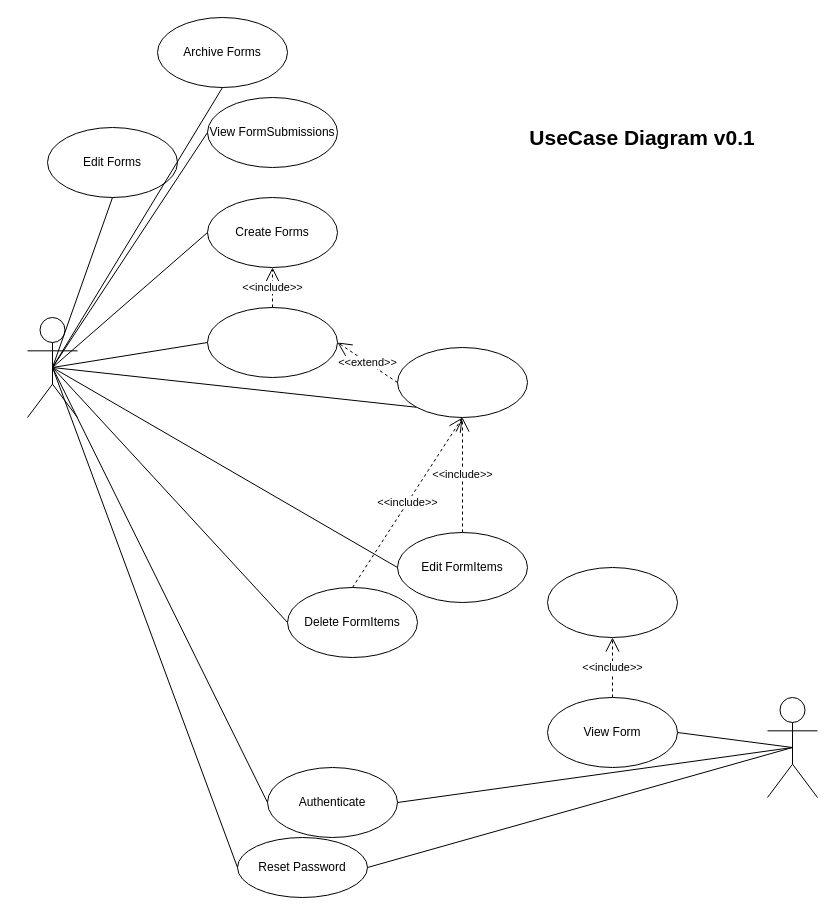
Image size: 835x915. Some labels were removed from this diagram. Here are the shapes that lost their labels. From the top down, the box of each, then its label:
(206, 306, 338, 378): Create FormItem
(26, 316, 78, 418): Form Creator
(396, 346, 528, 418): Save FormItem
(546, 566, 678, 638): Make Submission
(766, 696, 818, 798): User
